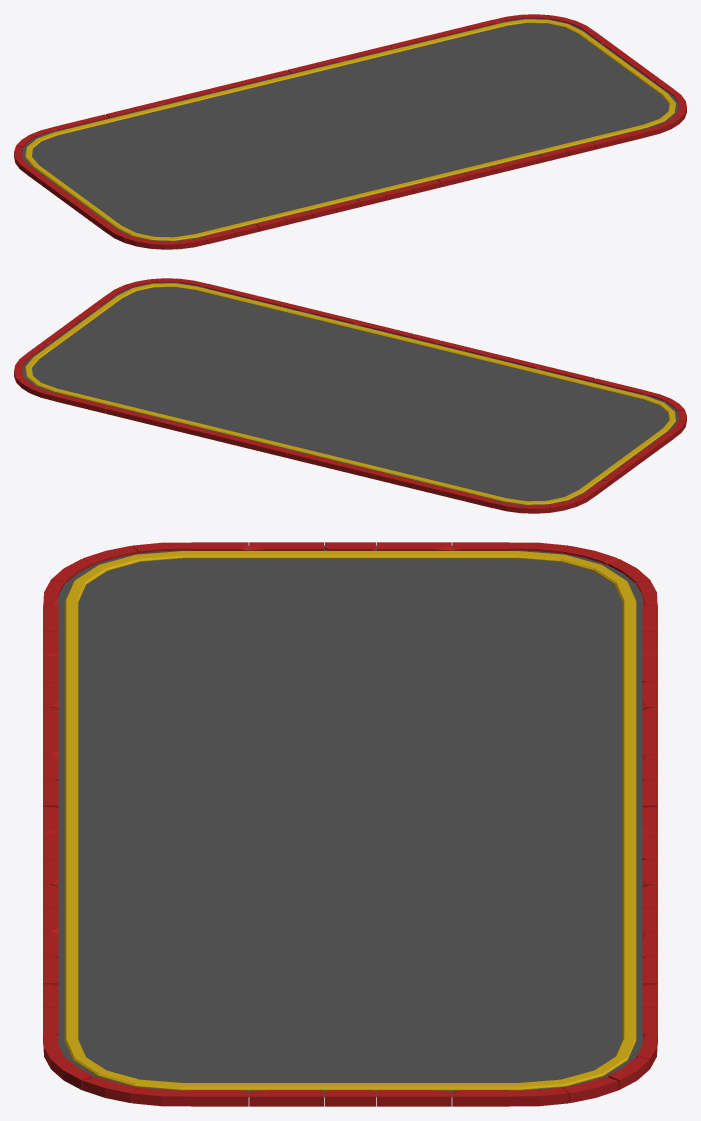
File: SM_road_03.fbx
3 renders of one model, top to bottom at view 1: azimuth 30°, elevation 25°; view 2: azimuth 150°, elevation 25°; view 3: azimuth 270°, elevation 25°, orthographic. The views are drawn at different scales.
Parts seen in each view (by area): view 1: Object32401; view 2: Object32401; view 3: Object32401.
Part boxes in pixels (<box>): Object32401: <box>14,14,686,249</box>; Object32401: <box>14,278,686,513</box>; Object32401: <box>43,542,657,1106</box>.
Bounding box in the file's own units: 1150 × 9.91 × 540.
